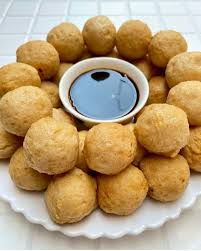Pempek adaan: (24, 112, 82, 173), (39, 173, 103, 222), (133, 103, 193, 155), (84, 119, 137, 174), (1, 84, 49, 135), (94, 170, 146, 217), (140, 157, 188, 202), (7, 145, 48, 195), (47, 22, 86, 61), (146, 27, 190, 61), (81, 12, 117, 53), (115, 17, 150, 59), (16, 41, 62, 72), (0, 64, 43, 94), (167, 50, 201, 86), (168, 78, 201, 112), (145, 70, 170, 104)
